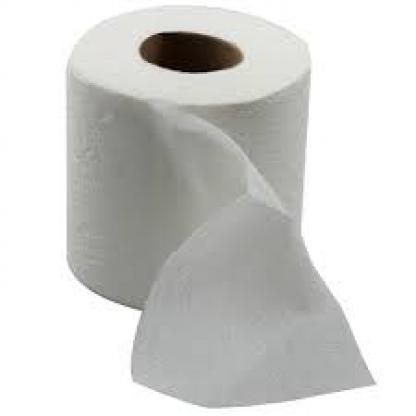tissue: (60, 9, 354, 396)
